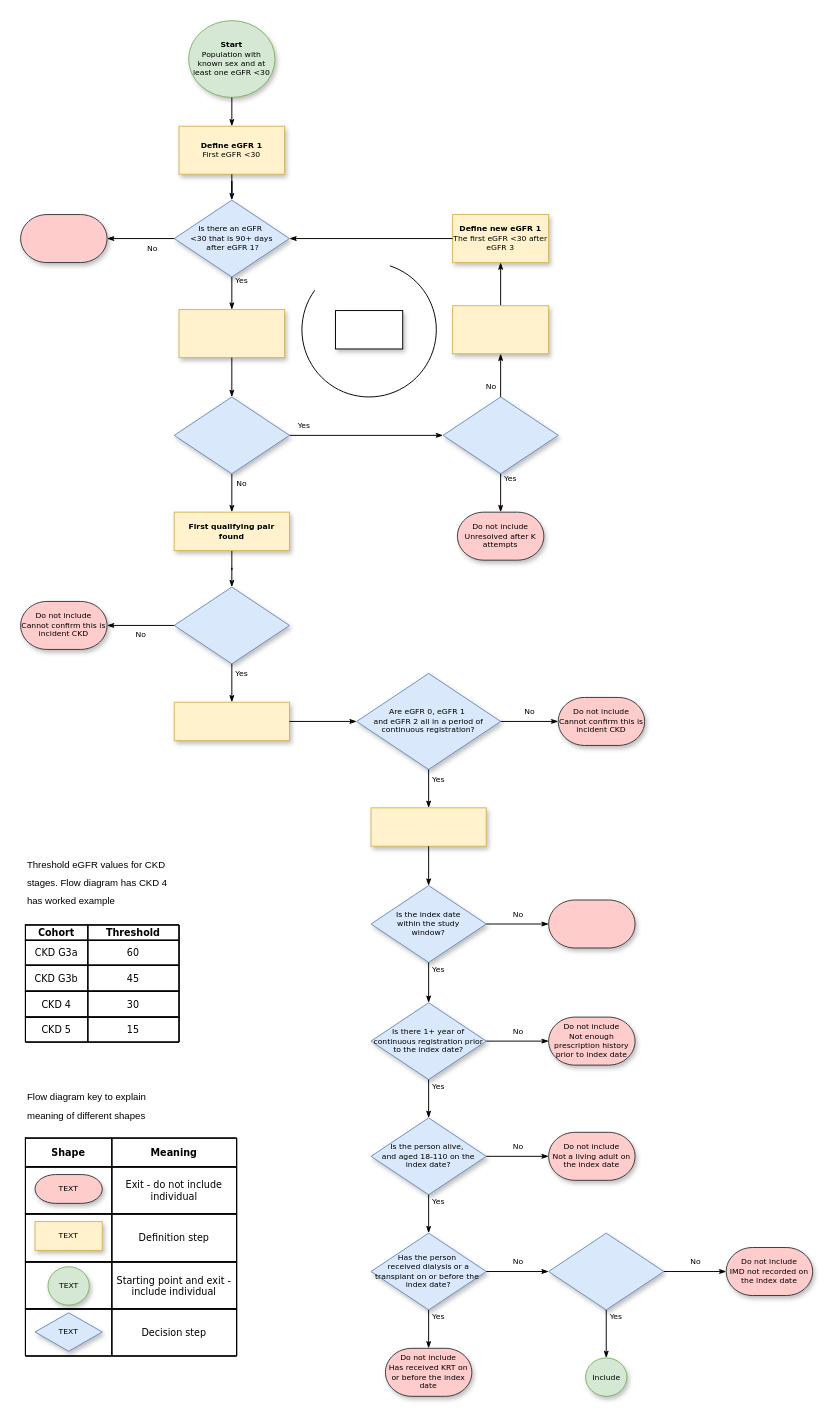
The diagram is 835 pixels wide and 1420 high, and some of its shapes have lost their labels. The centre of each missing label's shape, as x and y in pixels:
Are there any eGFRs 30+ between eGFR 1 and eGFR 2?: [232,436]
Define eGFR 0 The last eGFR 30+ prior to eGFR 1: [232,722]
Define eGFR 2 The first eGFR <30 that is 90+ days after eGFR 1: [232,334]
Define eGFR 3 The latest eGFR 30+ between eGFR 1 and eGFR 2: [501,330]
Define index date The date of eGFR 2: [429,828]
Do not include Cannot confirm this is CKD: [64,239]
Do not include Incident CKD not within the study window: [592,925]
Does the person have a known IMD on the index date?: [607,1272]
Has the loop already run K times?: [501,436]
Is there an eGFR 30+ before eGFR 1?: [232,626]
Loop up to K times: [369,331]
